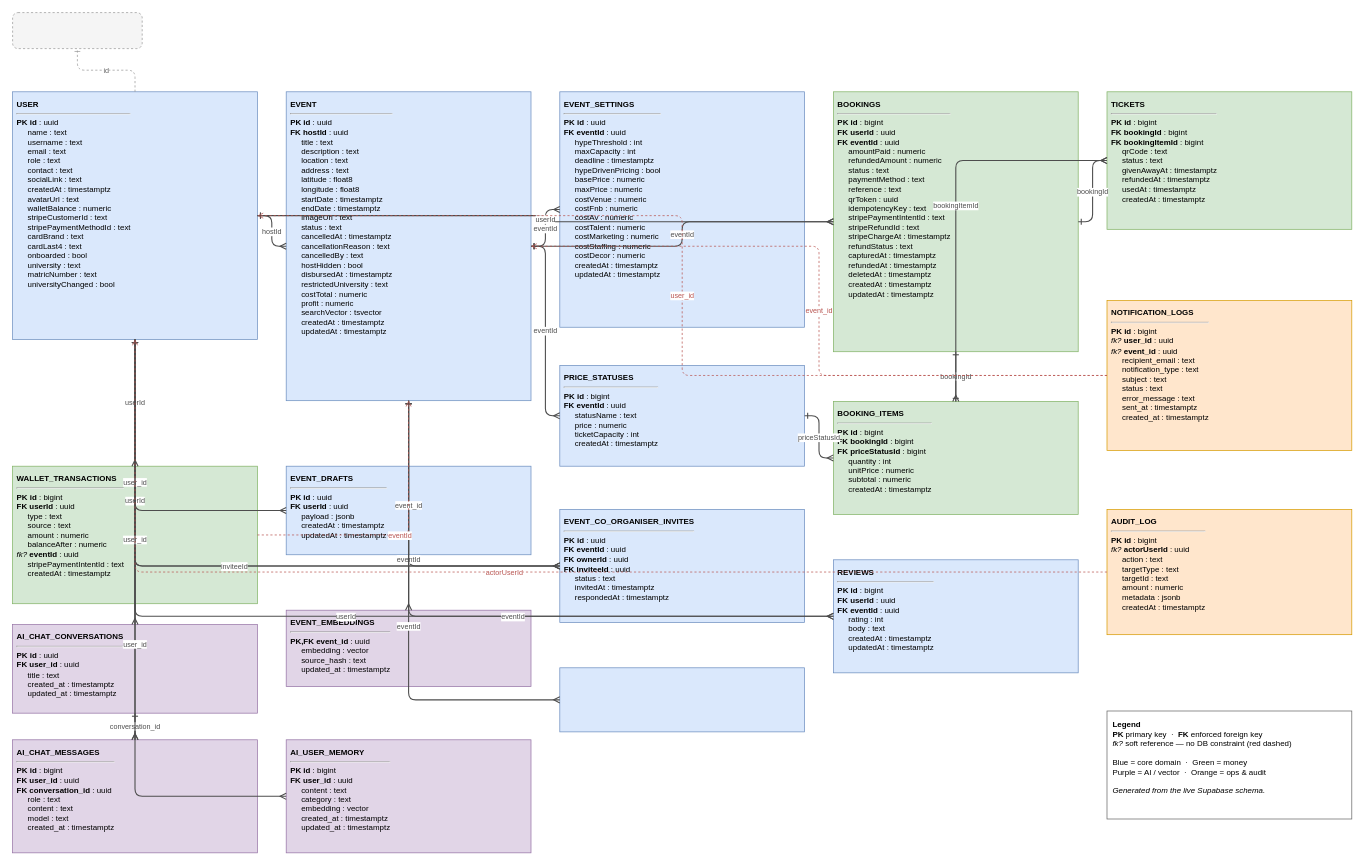
Some shapes in this 1364 by 865 pixel diagram are drawn without their labels. Each missing label, with the centre of its shape:
"auth.users (Supabase Auth)" goes at [77,30].
"EVENT_CALCULATOR PK,FK eventId : uuid state : jsonb updatedAt : timestamptz" goes at [682,699].
